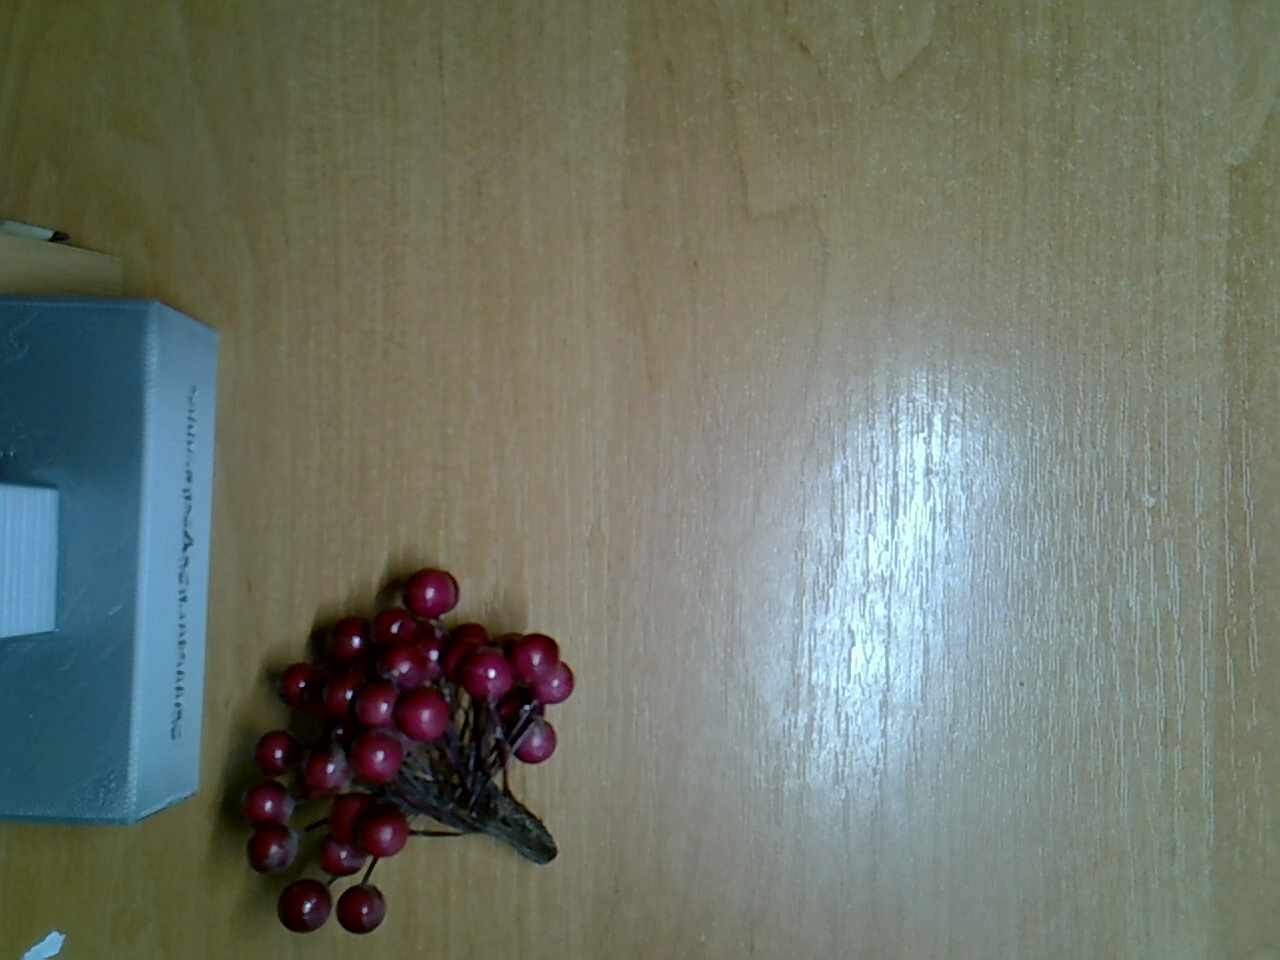berries: (222, 561, 581, 938)
